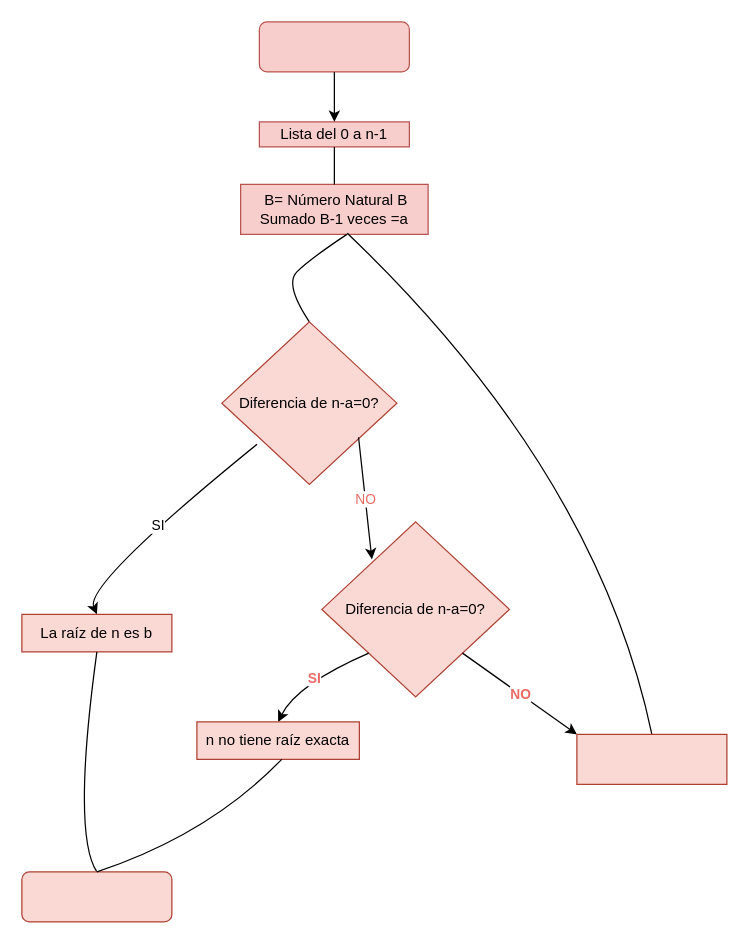
Image size: 749x944. Some labels were removed from this diagram. The centre of each missing label's shape, as x and y in pixels:
Entonces b= b+1: [651,758]
final: [96,896]
NUMERO NATURAL n: [333,46]
